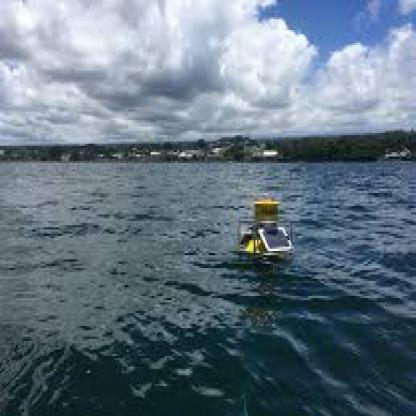buoy: (225, 186, 302, 272)
